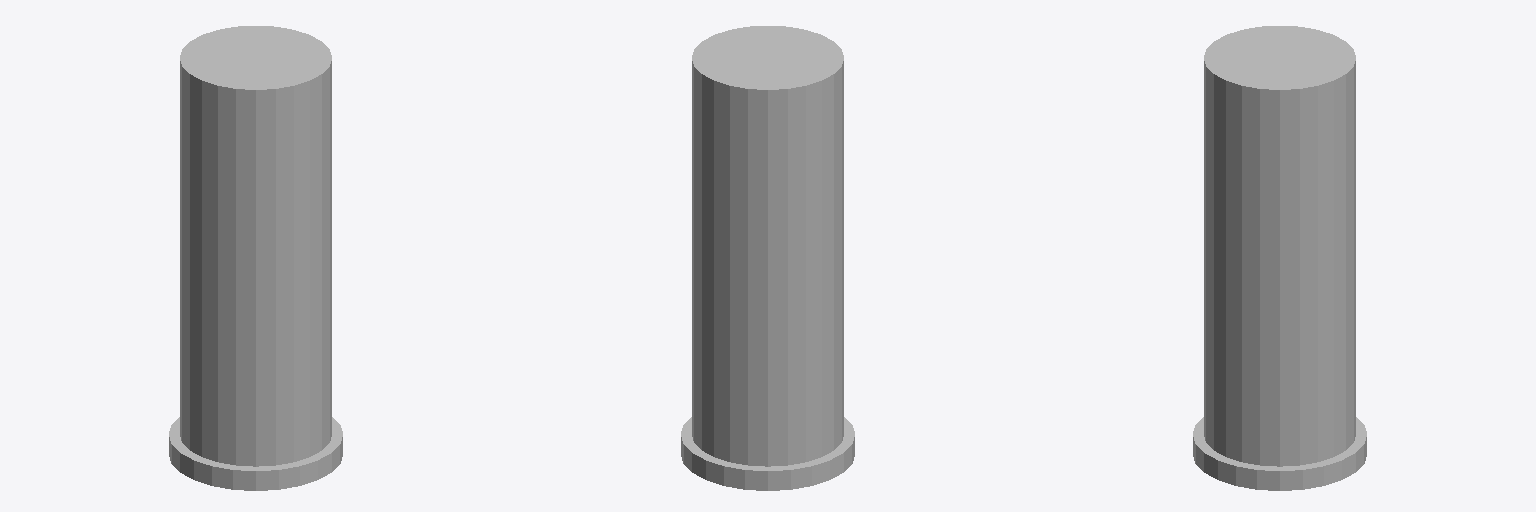
File: ammo_shotgun.obj
The picture shows the model from 3 angles: view 1: azimuth 30°, elevation 25°; view 2: azimuth 150°, elevation 25°; view 3: azimuth 270°, elevation 25°; orthographic projection.
Visible parts, largest first — view 1: ammo_shotgun; view 2: ammo_shotgun; view 3: ammo_shotgun.
Part boxes in pixels (x1,y1,x2,y2): ammo_shotgun: (169,26,342,490); ammo_shotgun: (681,26,854,490); ammo_shotgun: (1193,26,1366,490).
Bounding box in the file's own units: 0.0306 × 0.0766 × 0.0306.